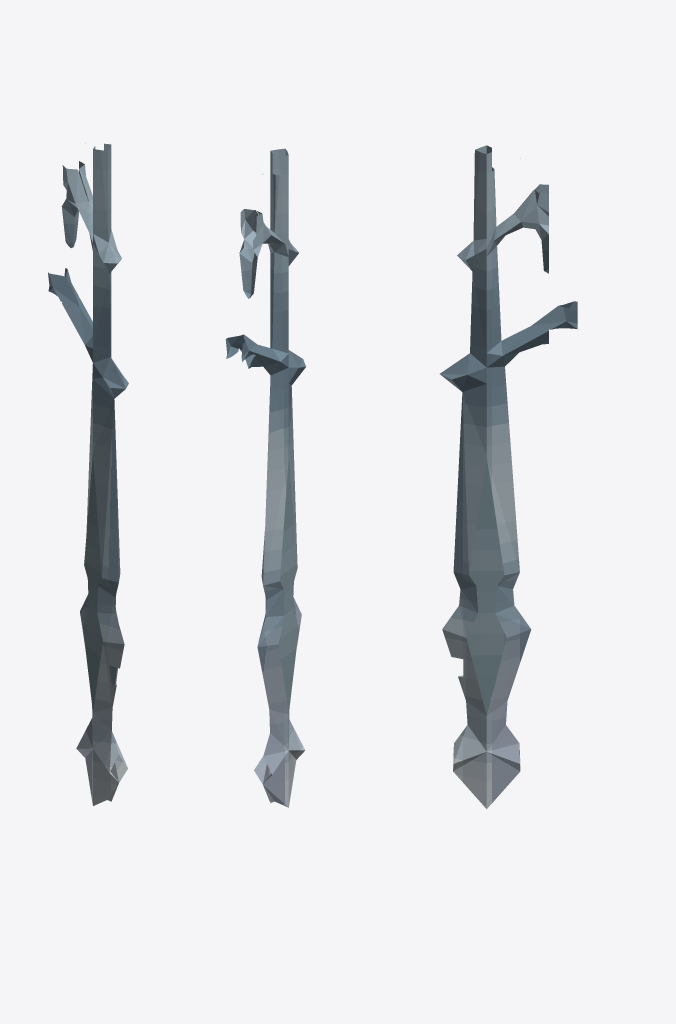
File: rejectionoffate.obj
The picture shows the model from 3 angles, left to right: view 1: azimuth 30°, elevation 25°; view 2: azimuth 150°, elevation 25°; view 3: azimuth 270°, elevation 25°; orthographic projection.
Bounding box in the file's own units: 1.99 × 103 × 27.41.
